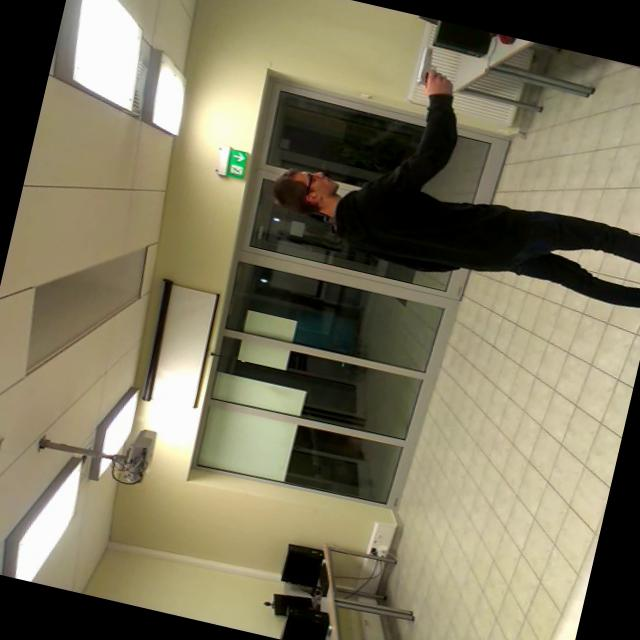handgun: (398, 32, 458, 92)
